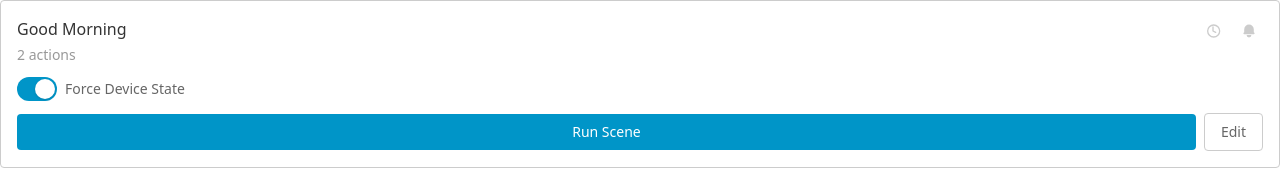
SceneCard – fire scene › shows Running... text while firing
This screenshot has width=1280, height=185.
Click the button "Run Scene" at (606, 132), box [17,114,1196,150]
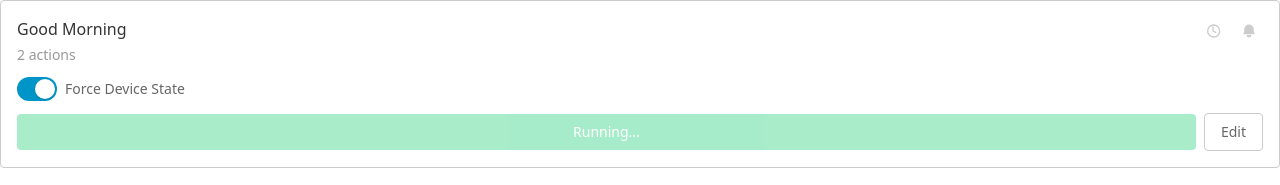
Expected: the button "Running..." is shown, [17,114,1196,150]
